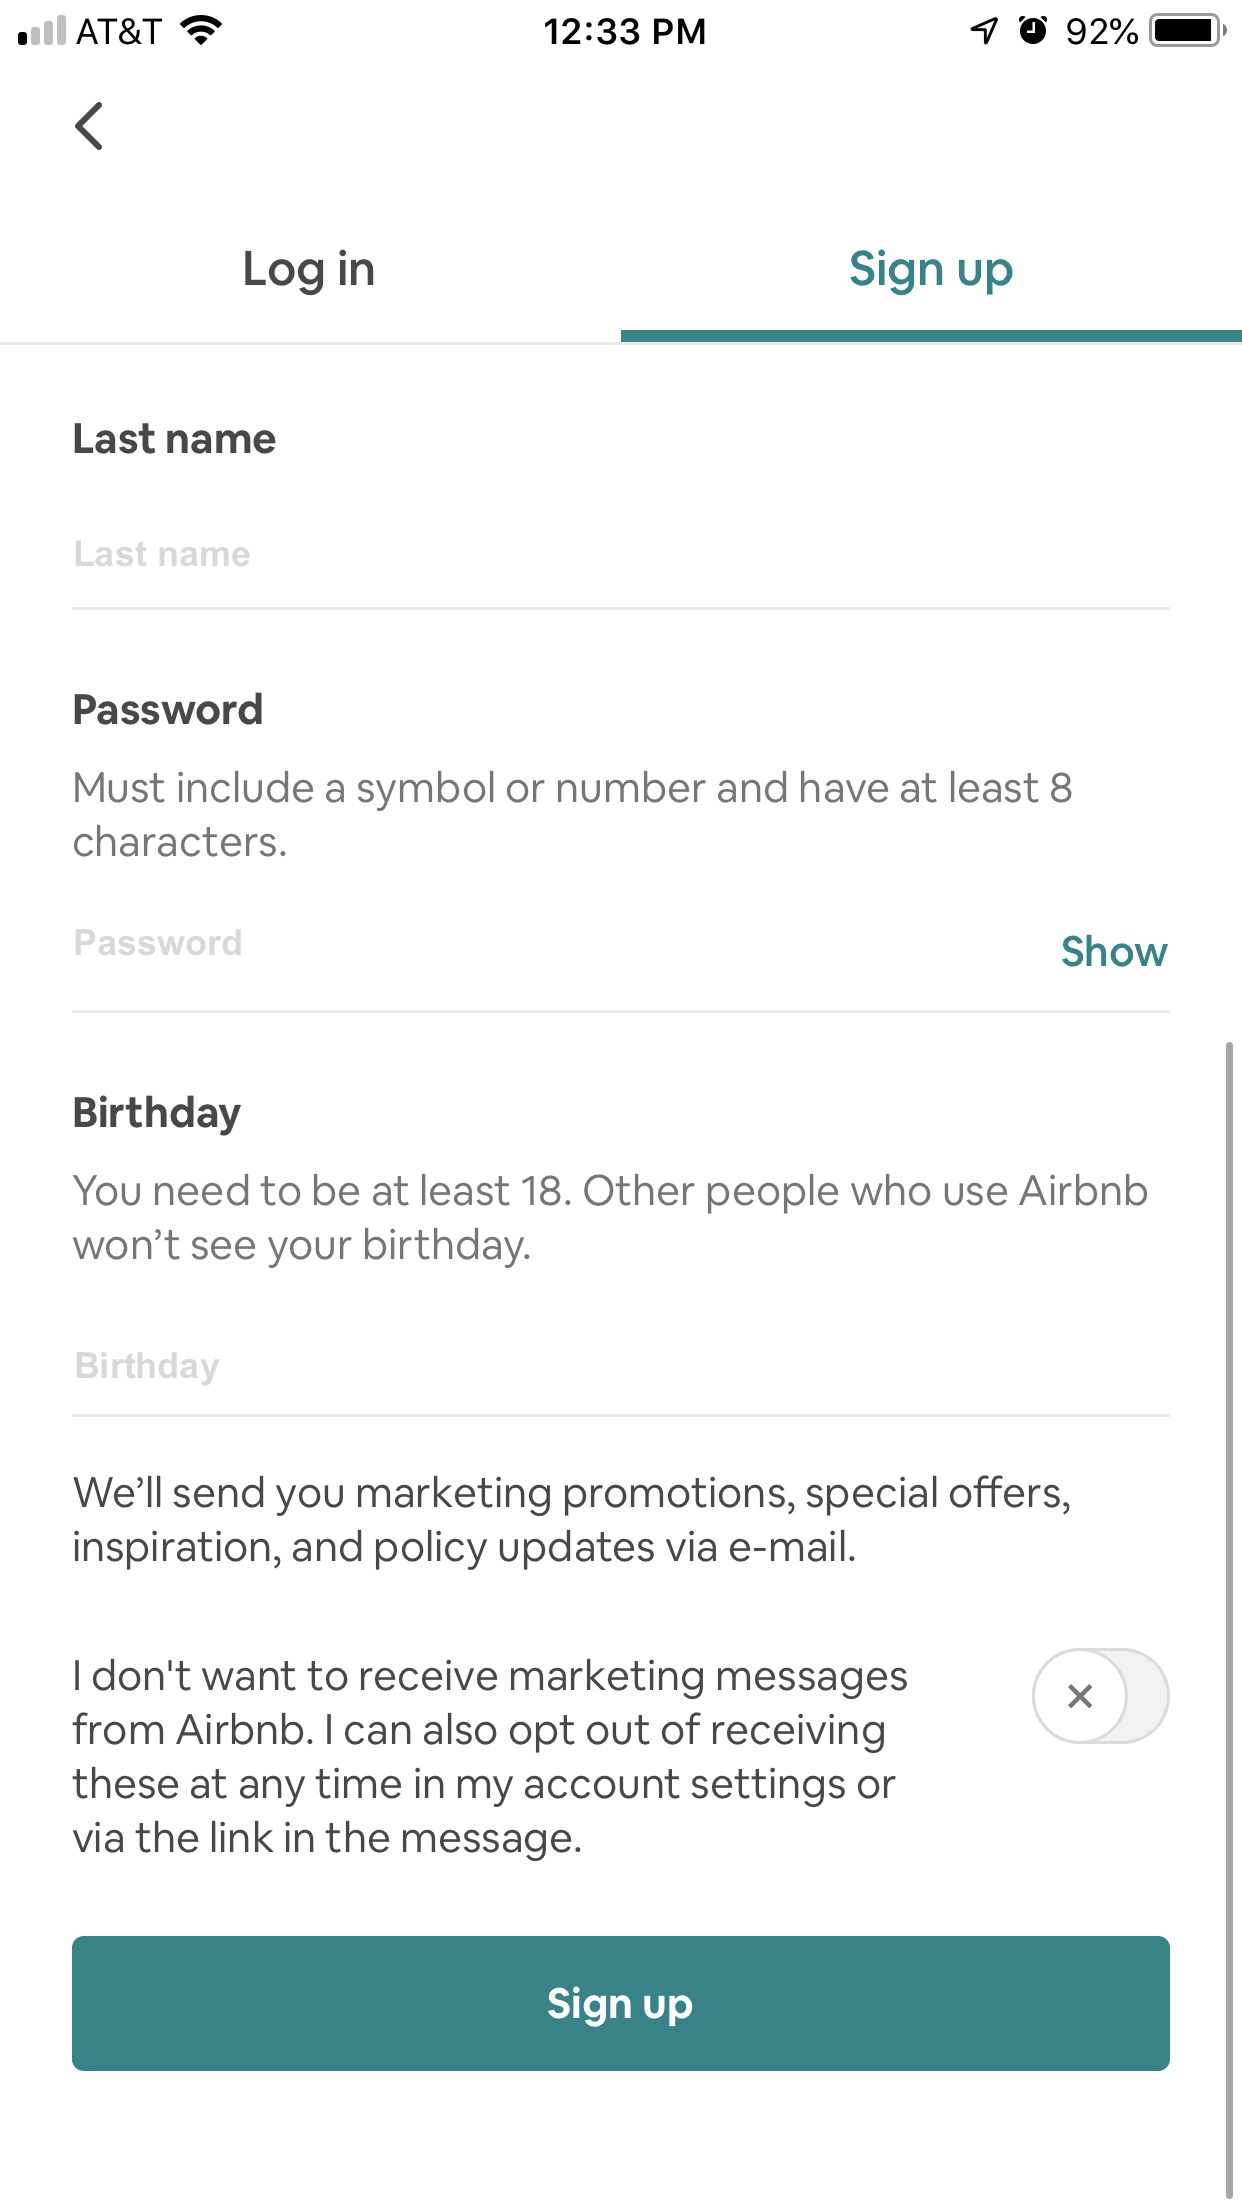EditText: (71, 930, 1172, 1015), (71, 540, 1171, 613), (71, 1351, 1171, 1418)
Icon: (74, 102, 105, 152)
Switch: (1031, 1647, 1171, 1745)
Text: (71, 1658, 908, 1862), (71, 1174, 1148, 1269), (73, 1474, 1071, 1571), (74, 770, 1074, 858), (851, 249, 1015, 297), (74, 1093, 243, 1137), (74, 422, 278, 455), (74, 692, 264, 726), (246, 249, 375, 297), (77, 1351, 221, 1388), (76, 930, 243, 958), (77, 540, 252, 567), (1062, 933, 1169, 968)
TextButton: (73, 1937, 1171, 2072)
UpperTaskBar: (2, 2, 1242, 49)
